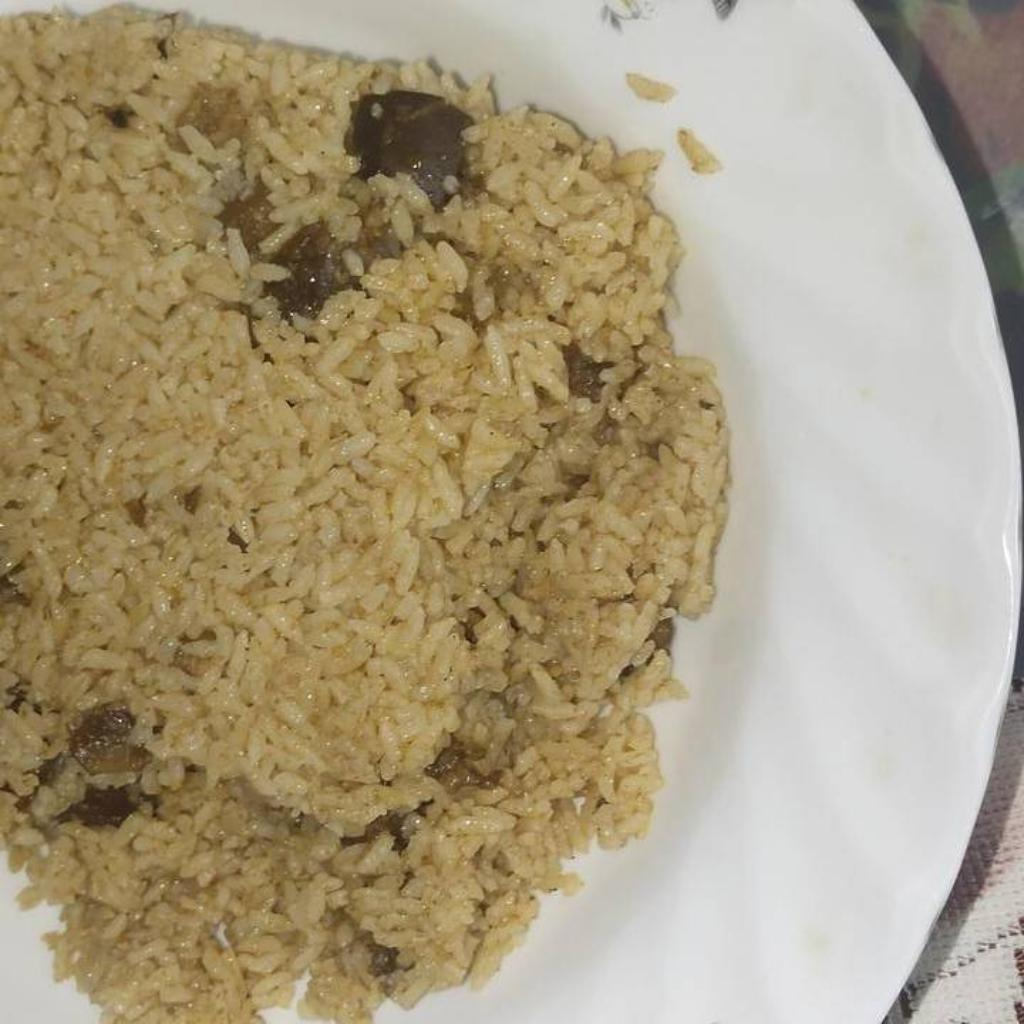biriyani: (0, 10, 725, 1023)
